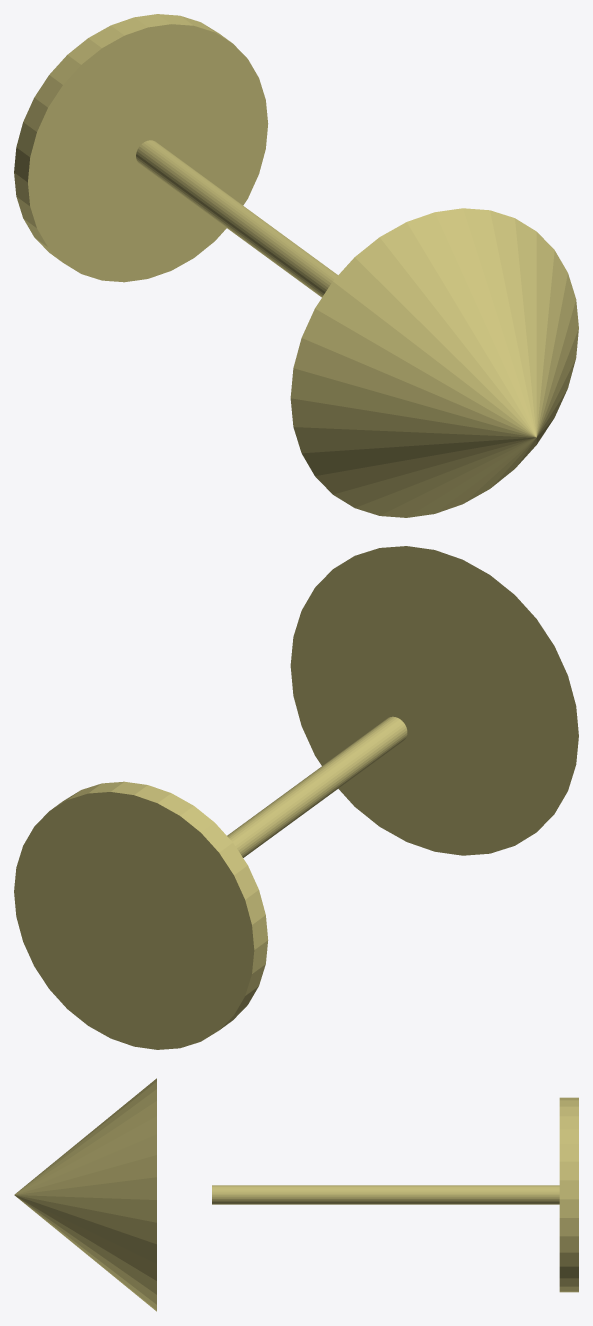
3 renders of one model, top to bottom at view 1: azimuth 30°, elevation 25°; view 2: azimuth 150°, elevation 25°; view 3: azimuth 270°, elevation 25°, orthographic. The views are drawn at different scales.
Visible parts, largest first — view 1: geometry_0; view 2: geometry_0; view 3: geometry_0.
Boxes of the visible parts, box(x1,y1,x2,y2) form: geometry_0: box(14, 14, 578, 517); geometry_0: box(14, 546, 578, 1049); geometry_0: box(14, 1078, 578, 1311).
Size of the model in its own units: 0.36 by 0.36 by 0.87.
